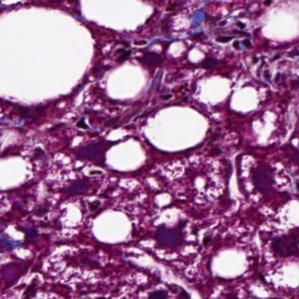inflammation: (244, 42, 299, 90), (213, 15, 256, 52)
